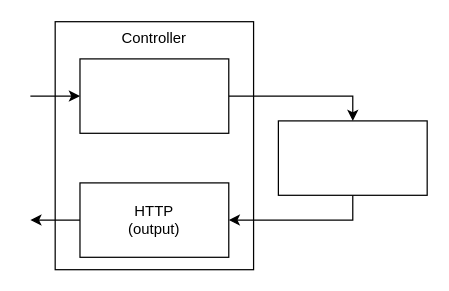
The diagram is 449 pixels wide and 291 high, and some of its shapes have lost their labels. The shapes that lost their labels are listed below. From the top down, each one's centre as x and y in pixels, then its label:
At (x=154, y=95): "HTTP (input)".
At (x=352, y=157): "Domain logic".
